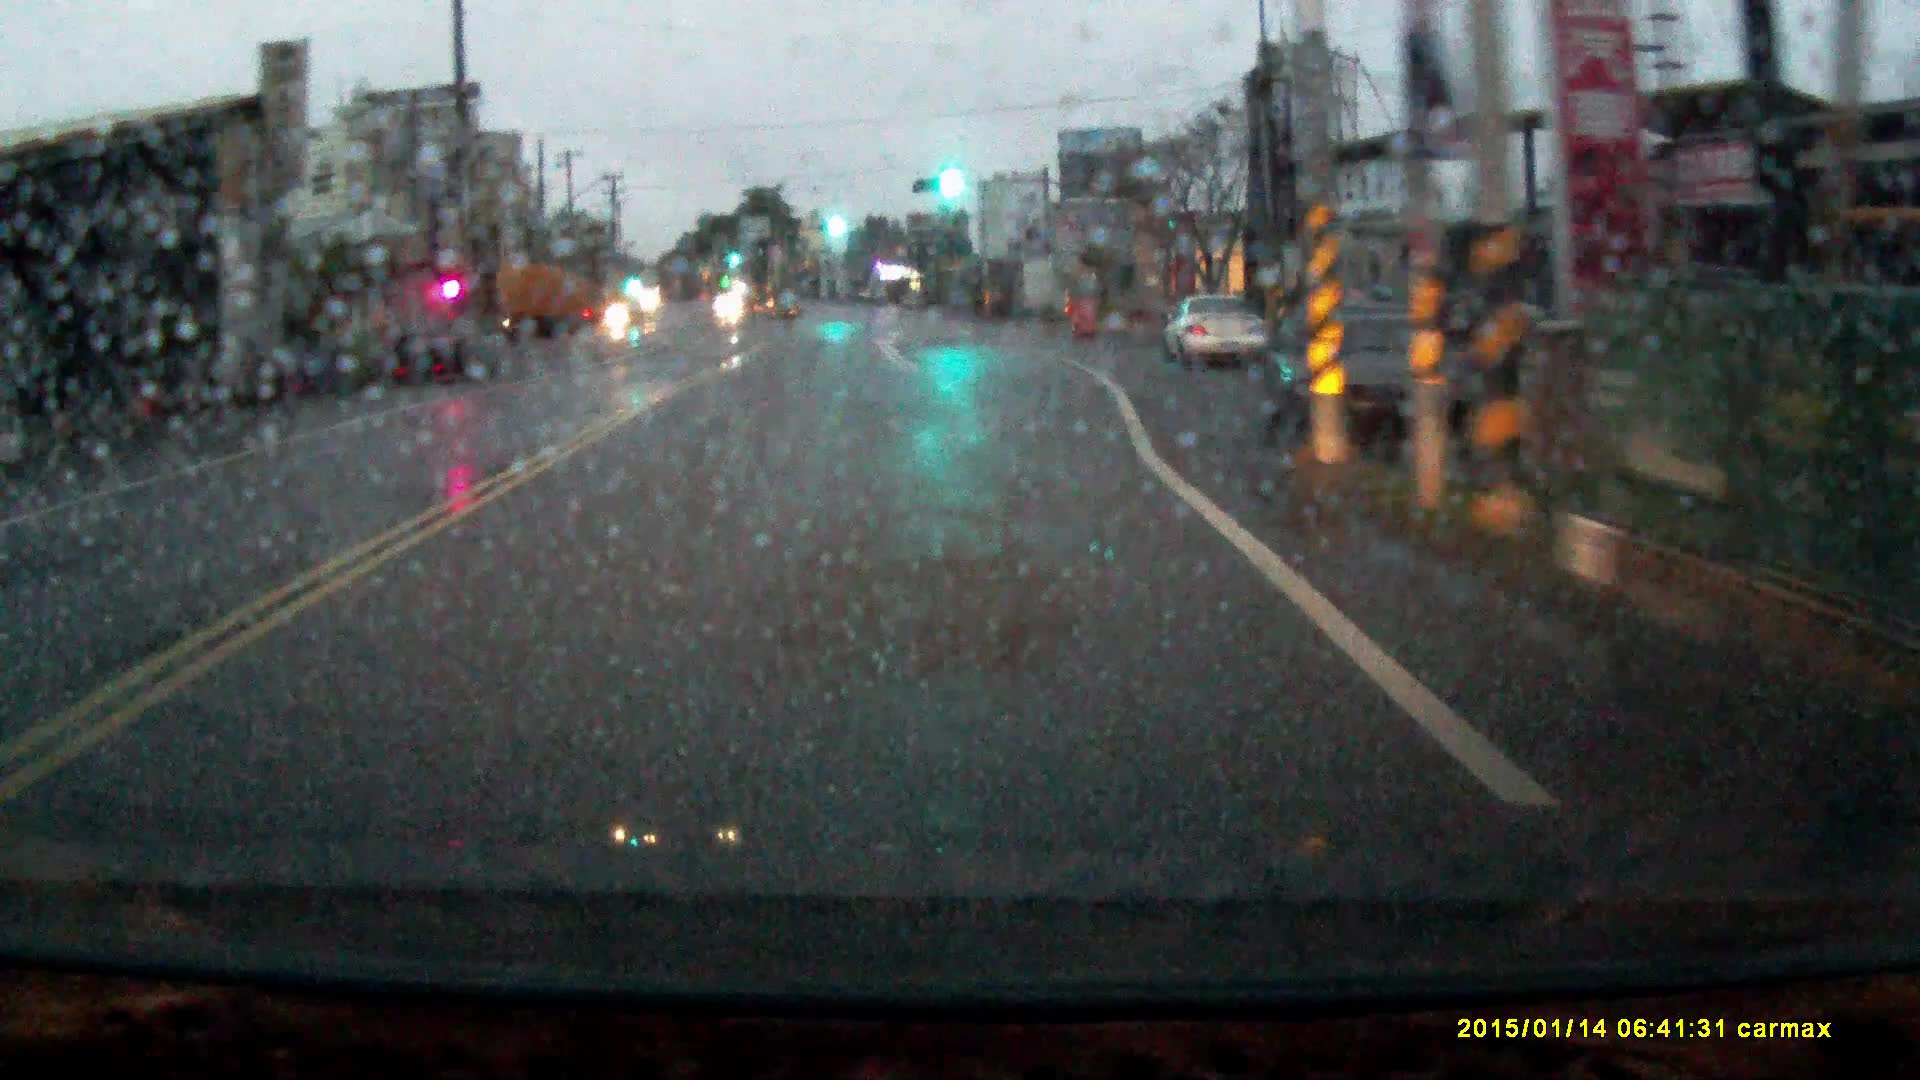rider: (602, 289, 633, 347)
vehicle: (1256, 305, 1465, 452), (1157, 288, 1268, 363), (494, 258, 594, 340), (385, 315, 492, 381), (716, 290, 744, 315)
